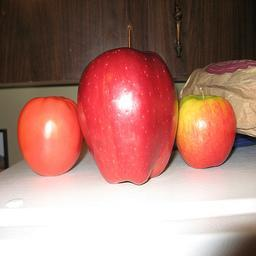apple: (78, 47, 177, 184), (175, 91, 237, 168)
